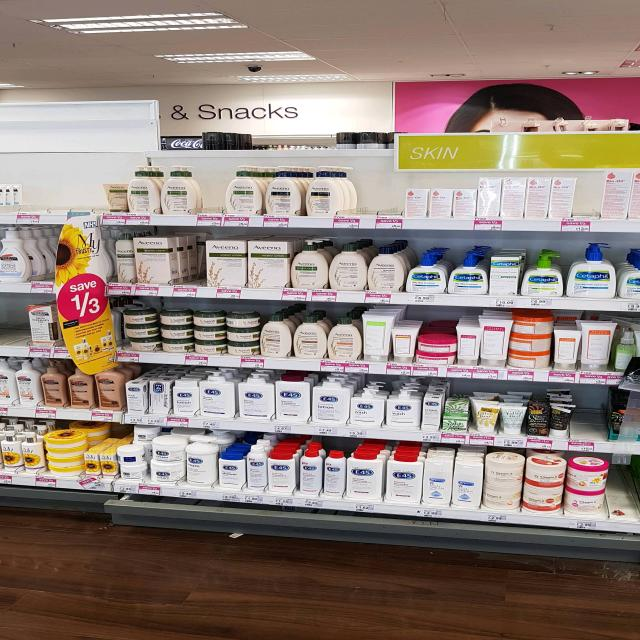empty: (14, 162, 110, 214), (340, 163, 403, 231), (563, 383, 610, 451), (174, 227, 209, 296), (192, 162, 233, 220), (603, 459, 640, 523), (4, 295, 39, 351)
